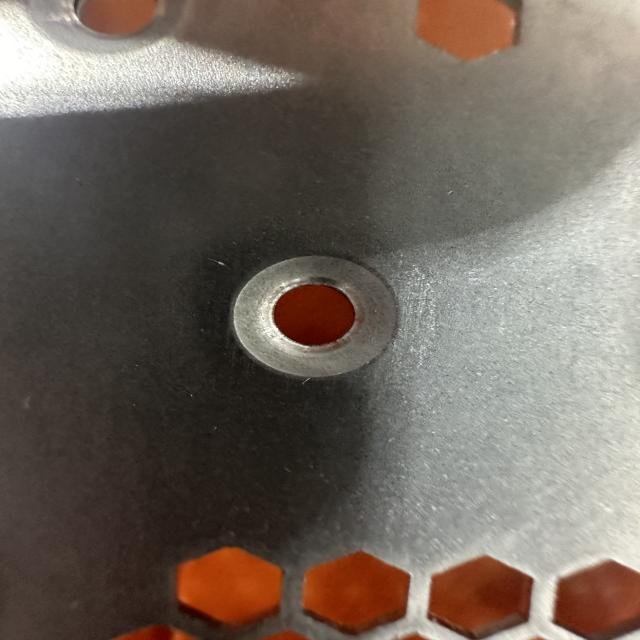Missing screw: (210, 236, 422, 392)
